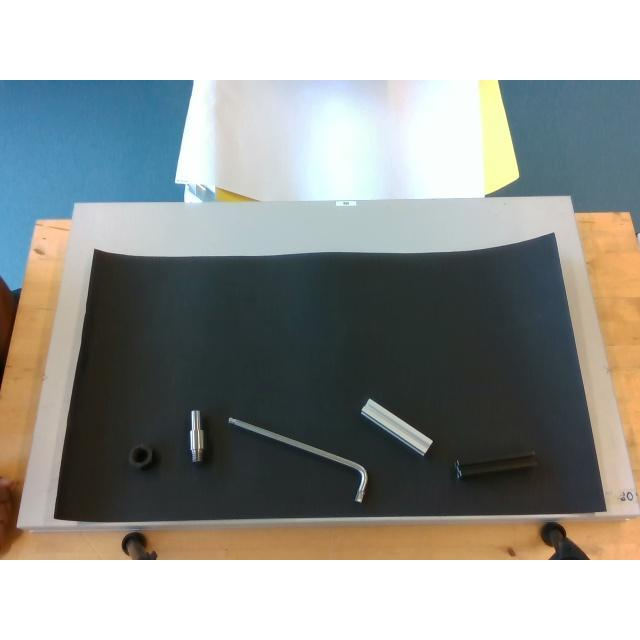AllenKey: (228, 418, 366, 502)
Axis2: (189, 410, 205, 462)
F20_20_B: (454, 449, 538, 478)
F20_20_G: (361, 399, 432, 455)
M30: (128, 444, 152, 468)
